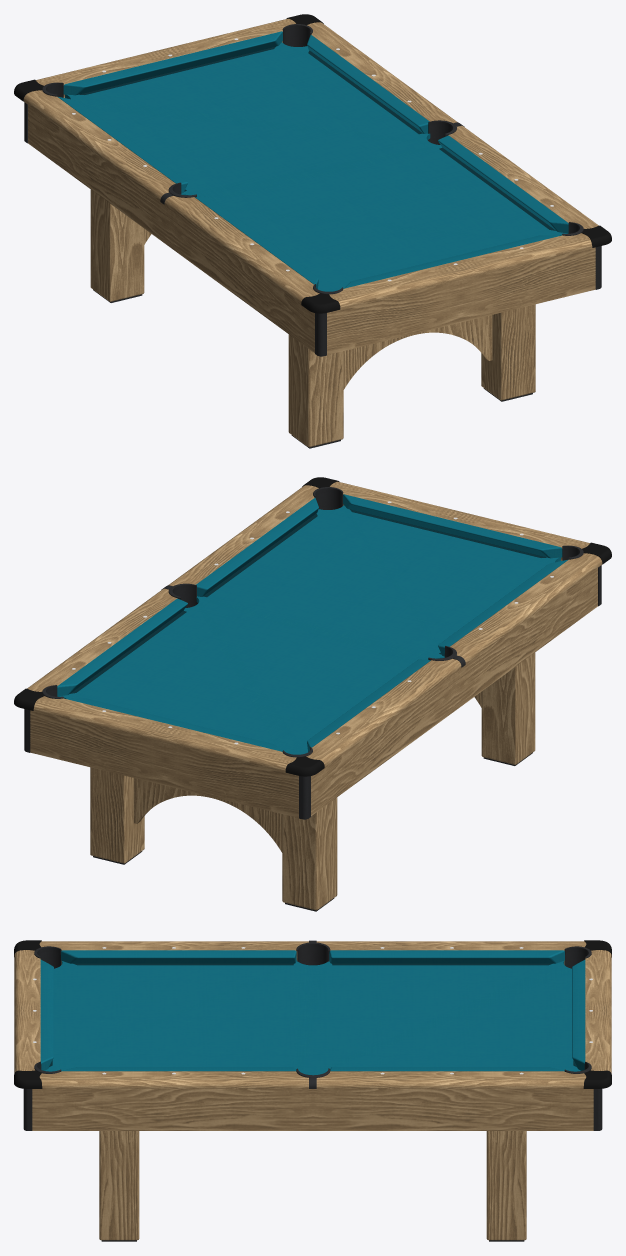
The model's file is seven_foot_showood_pbr.glb.
The picture shows the model from 3 angles, top to bottom: view 1: azimuth 30°, elevation 25°; view 2: azimuth 150°, elevation 25°; view 3: azimuth 270°, elevation 25°; orthographic projection. The views are drawn at different scales.
Parts seen in each view (by area): view 1: slate, frame, legs, cushion_long, cushion_short, bevel_1.001, pocket_corner_holder, cushion_long_shadow, bevel_3, pocket_side_holder; view 2: slate, frame, legs, cushion_long, cushion_short, bevel_1.001, pocket_corner_holder, cushion_long_shadow, bevel_3, pocket_side_holder; view 3: slate, frame, legs, cushion_long, cushion_short, bevel_1.001, cushion_long_shadow, pocket_corner_holder, bevel_3, pocket_side_holder.
Boxes of the visible parts, left/top/right/bottom form: slate: left=65, top=42, right=567, bottom=291; frame: left=23, top=18, right=598, bottom=354; legs: left=90, top=189, right=535, bottom=448; cushion_long: left=57, top=35, right=568, bottom=288; cushion_short: left=63, top=31, right=559, bottom=288; bevel_1.001: left=14, top=14, right=611, bottom=313; pocket_corner_holder: left=42, top=24, right=583, bottom=294; cushion_long_shadow: left=184, top=50, right=555, bottom=230; bevel_3: left=24, top=102, right=601, bottom=356; pocket_side_holder: left=168, top=120, right=456, bottom=197; slate: left=58, top=505, right=560, bottom=754; frame: left=27, top=481, right=602, bottom=817; legs: left=90, top=652, right=535, bottom=911; cushion_long: left=57, top=498, right=568, bottom=751; cushion_short: left=66, top=494, right=562, bottom=751; bevel_1.001: left=14, top=477, right=611, bottom=776; pocket_corner_holder: left=42, top=487, right=583, bottom=757; cushion_long_shadow: left=70, top=513, right=441, bottom=693; bevel_3: left=24, top=565, right=601, bottom=819; pocket_side_holder: left=168, top=583, right=456, bottom=660; slate: left=45, top=960, right=580, bottom=1075; frame: left=14, top=941, right=611, bottom=1130; legs: left=99, top=1131, right=526, bottom=1241; cushion_long: left=61, top=950, right=564, bottom=1071; cushion_short: left=40, top=959, right=585, bottom=1070; bevel_1.001: left=14, top=940, right=611, bottom=1088; cushion_long_shadow: left=74, top=963, right=551, bottom=965; pocket_corner_holder: left=34, top=946, right=591, bottom=1073; bevel_3: left=23, top=1089, right=602, bottom=1130; pocket_side_holder: left=296, top=942, right=330, bottom=1077.
Size of the model in its own units: 1.3 by 0.7556 by 2.29.
Materials: 7 (4 with a texture image).
